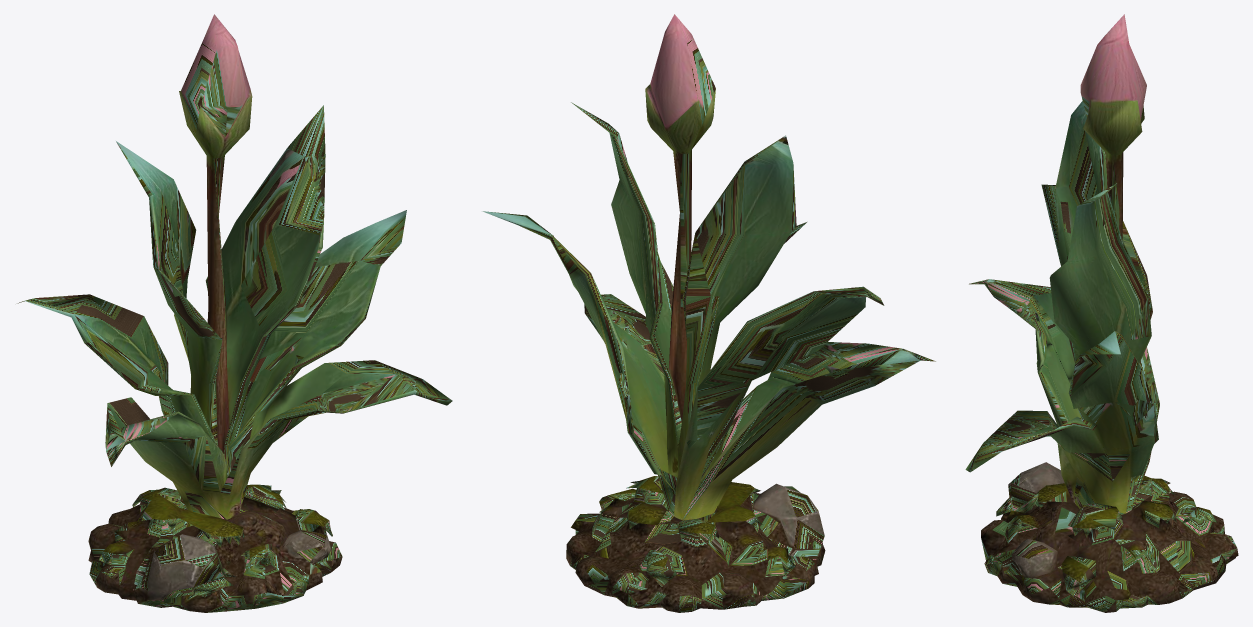
File: prop_linh_thao.9f4139774e.glb
3 renders of one model, left to right at view 1: azimuth 30°, elevation 25°; view 2: azimuth 150°, elevation 25°; view 3: azimuth 270°, elevation 25°, orthographic. The views are drawn at different scales.
Visible parts, largest first — view 1: prop_linh_thao; view 2: prop_linh_thao; view 3: prop_linh_thao.
Part boxes in pixels (box(x1,y1,x2,y2)): prop_linh_thao: box(17, 14, 452, 612); prop_linh_thao: box(482, 14, 935, 612); prop_linh_thao: box(965, 14, 1238, 612).
Size of what is drawn, in the model's own units: 0.3053 by 0.4 by 0.18.
1 material, 1 textured.
